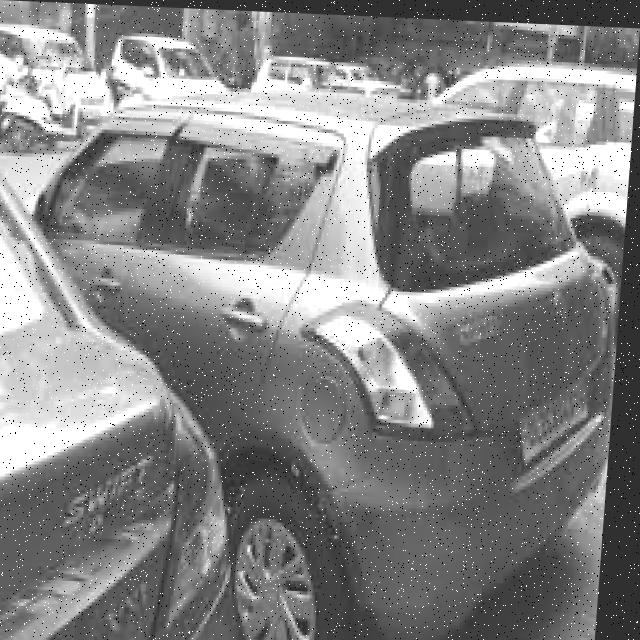car: (0, 95, 629, 640)
